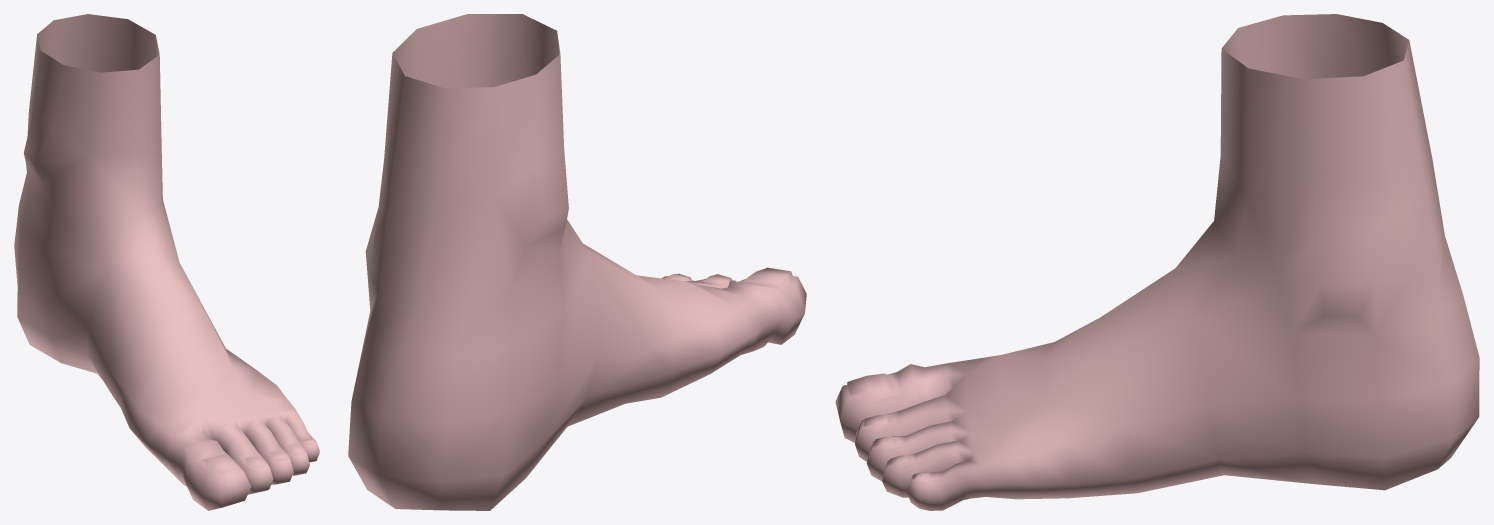
File: Anime_Female_A_Foot01.fbx
3 views of the same model, side by side, from view 1: azimuth 30°, elevation 25°; view 2: azimuth 150°, elevation 25°; view 3: azimuth 270°, elevation 25° (orthographic). The views are drawn at different scales.
Parts seen in each view (by area): view 1: Anime_Female_A_Foot01; view 2: Anime_Female_A_Foot01; view 3: Anime_Female_A_Foot01.
Boxes of the visible parts, x1=… form: Anime_Female_A_Foot01: x1=14, y1=14, x2=319, y2=510; Anime_Female_A_Foot01: x1=348, y1=14, x2=806, y2=510; Anime_Female_A_Foot01: x1=835, y1=14, x2=1479, y2=510.
Size of the model in its own units: 0.4852 by 0.9719 by 1.33.
